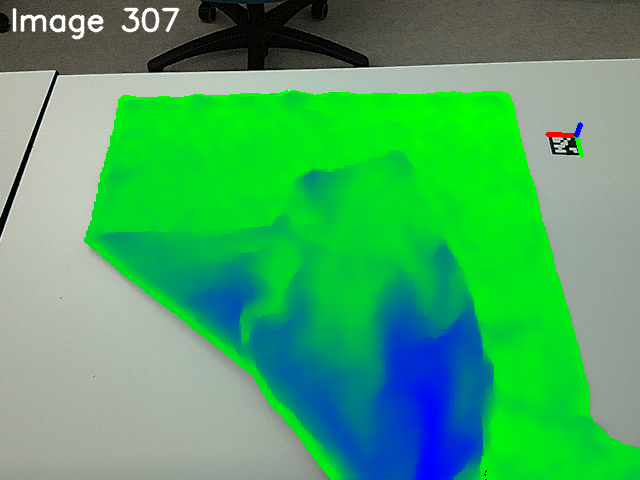V: (373, 139, 420, 193)
